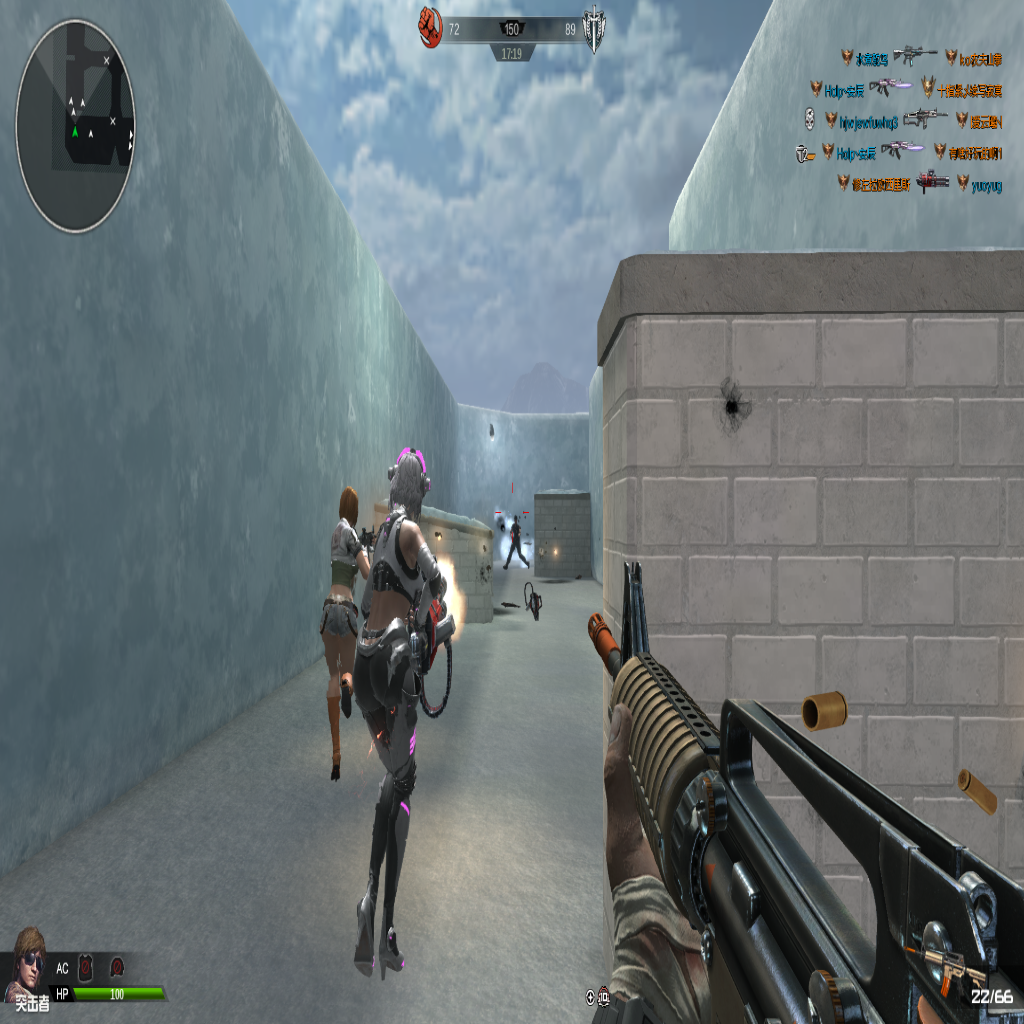ct: (506, 513, 527, 570)
tt: (317, 485, 375, 791)
